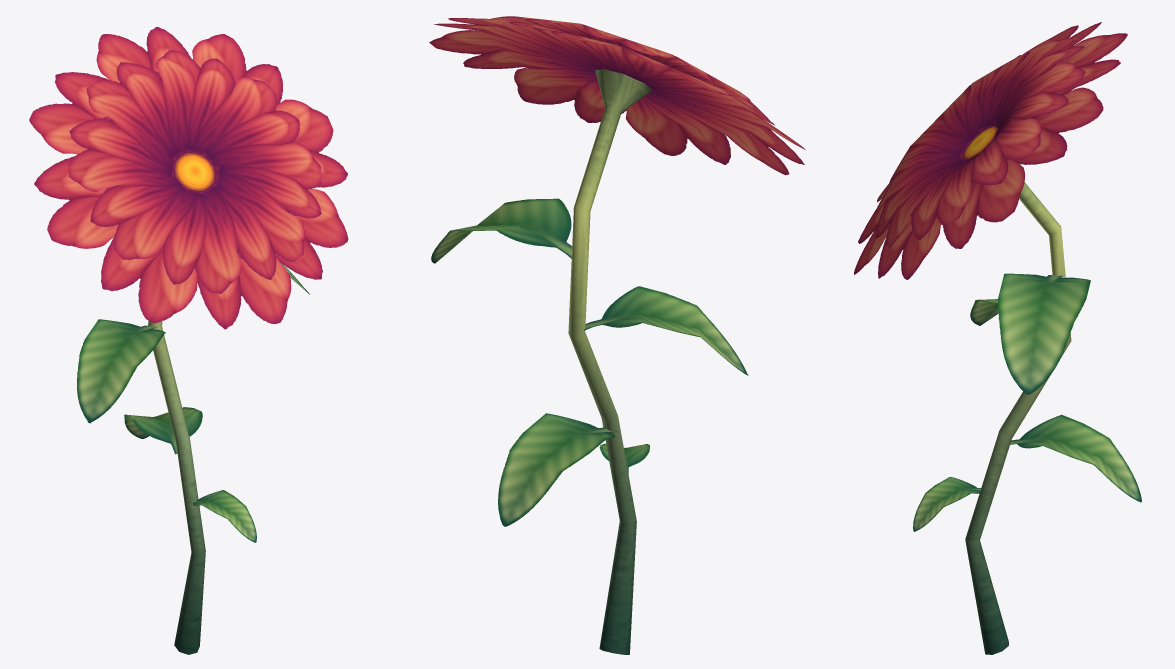
The model's file is Flower.fbx.
The picture shows the model from 3 angles, left to right: view 1: azimuth 30°, elevation 25°; view 2: azimuth 150°, elevation 25°; view 3: azimuth 270°, elevation 25°; orthographic projection. The views are drawn at different scales.
Visible parts, largest first — view 1: FlowerA_01; view 2: FlowerA_01; view 3: FlowerA_01.
Part boxes in pixels (box(x1,y1,x2,y2)): FlowerA_01: box(29, 27, 348, 654); FlowerA_01: box(429, 16, 805, 654); FlowerA_01: box(854, 22, 1141, 654).
Bounding box in the file's own units: 33.12 × 60.48 × 27.72.
1 material, 1 textured.
